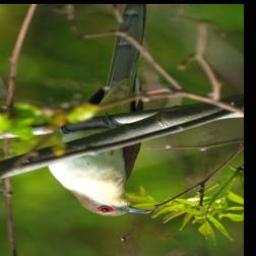Cuckoo: (44, 5, 155, 219)
